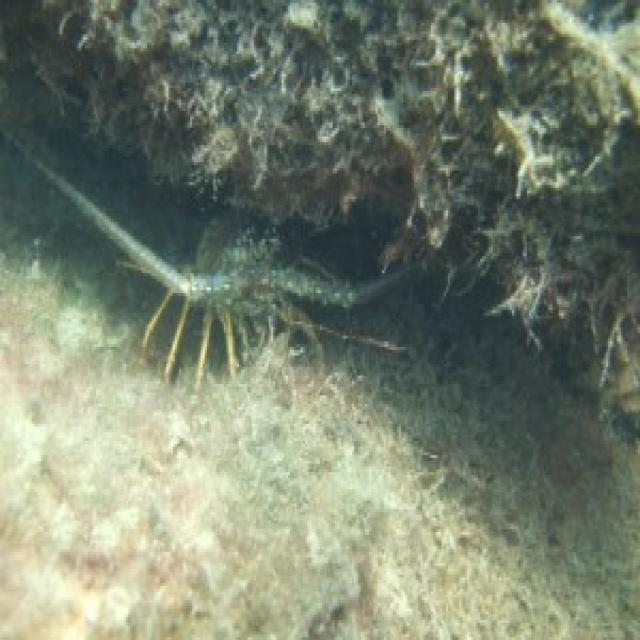lobsters: (33, 153, 461, 455)
